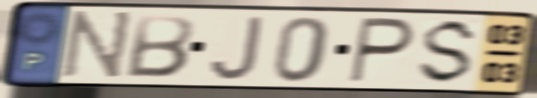0: (270, 14, 333, 85)
B: (121, 13, 197, 80)
J: (207, 14, 266, 83)
N: (58, 9, 137, 83)
P: (346, 14, 419, 86)
S: (414, 17, 483, 87)
